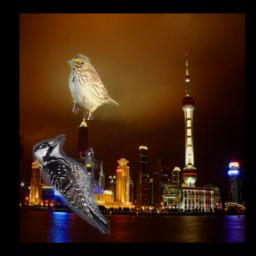Sparrow: (66, 54, 118, 121)
Woodpecker: (33, 135, 110, 235)
